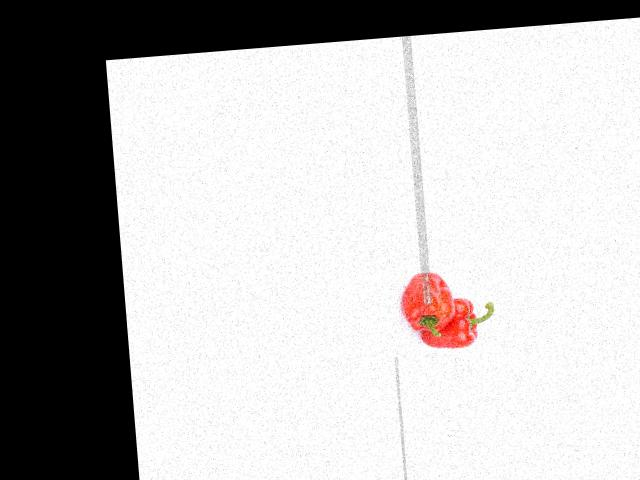bell_pepper: (399, 262, 461, 337)
